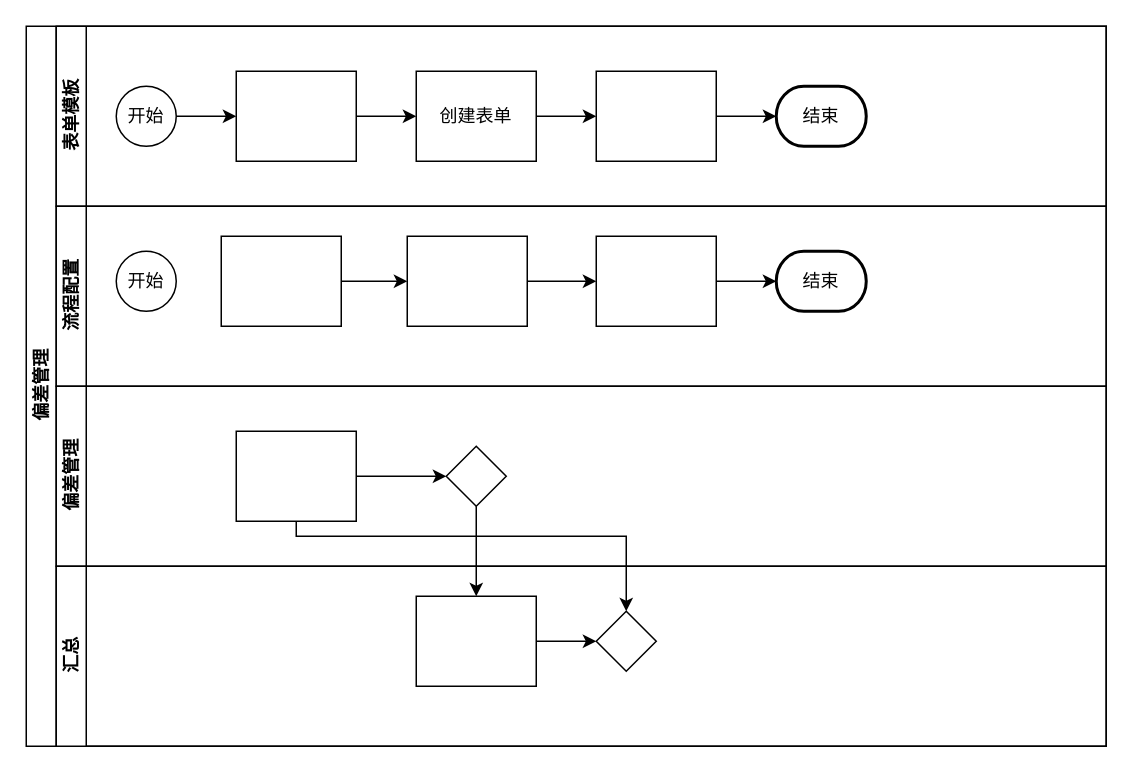
Some shapes in this 1133 by 773 pixel diagram are drawn without their labels. Here are the shapes that lost their labels. From the top down, the centre of each, then its label:
the point at 295,115: 拆分表单
the point at 655,115: 表单组态
the point at 280,280: 流程分类
the point at 466,280: 流程模板
the point at 655,280: 流程组态
